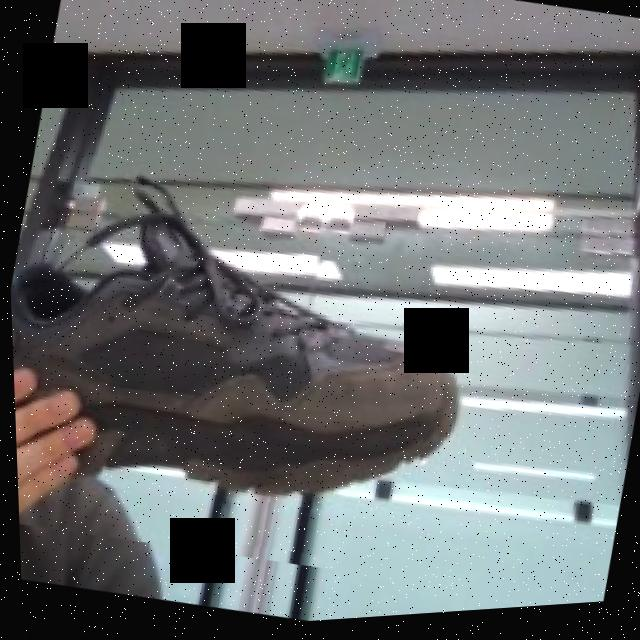shoe: (4, 103, 482, 605)
